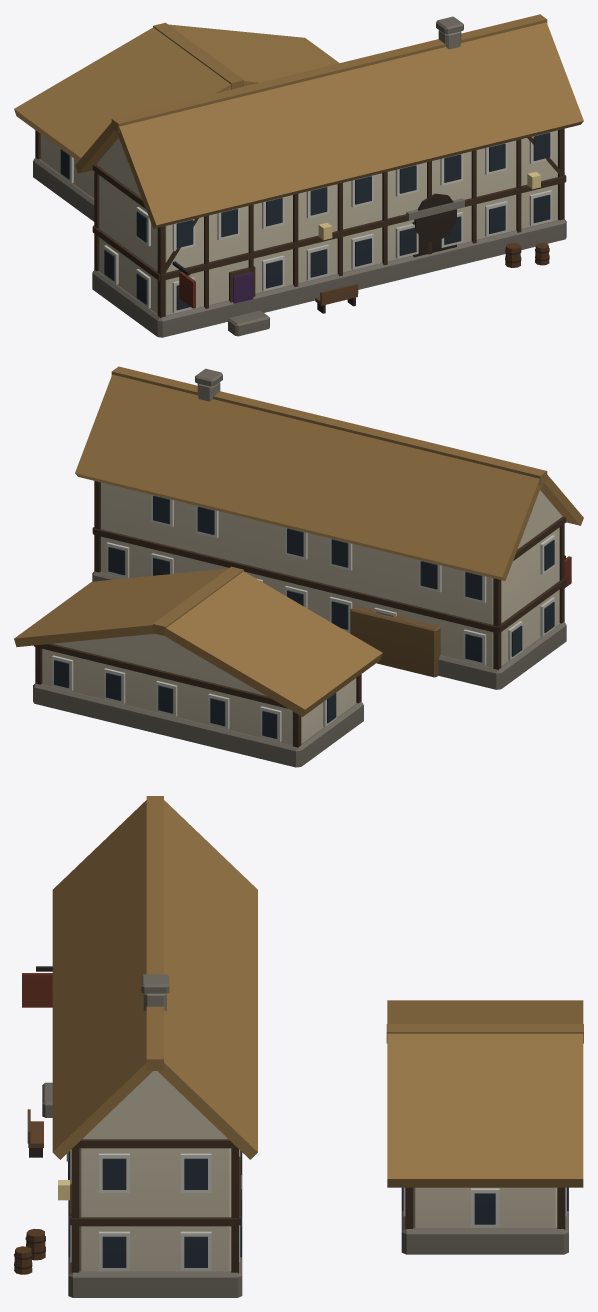
File: inn.glb
The picture shows the model from 3 angles, top to bottom: view 1: azimuth 30°, elevation 25°; view 2: azimuth 150°, elevation 25°; view 3: azimuth 270°, elevation 25°; orthographic projection. The views are drawn at different scales.
Visible parts, largest first — view 1: inn_model; view 2: inn_model; view 3: inn_model.
Boxes of the visible parts, box(x1,y1,x2,y2) form: inn_model: box(14, 14, 583, 337); inn_model: box(14, 366, 583, 767); inn_model: box(14, 796, 583, 1297).
Bounding box in the file's own units: 1.88 × 0.918 × 1.72.
